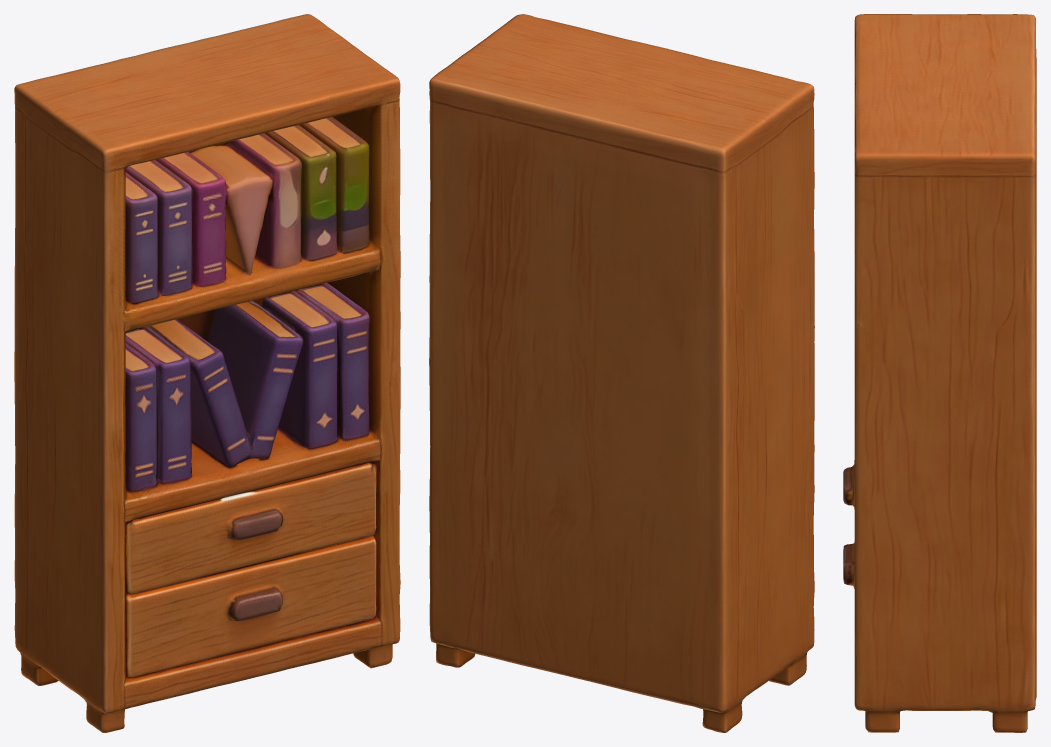
The model's file is bookcase.glb.
The picture shows the model from 3 angles, left to right: view 1: azimuth 30°, elevation 25°; view 2: azimuth 150°, elevation 25°; view 3: azimuth 270°, elevation 25°; orthographic projection.
Parts seen in each view (by area): view 1: model; view 2: model; view 3: model.
Part boxes in pixels (box(x1,y1,x2,y2)): model: box(14, 14, 400, 732); model: box(429, 14, 814, 732); model: box(843, 14, 1036, 732).
Bounding box in the file's own units: 0.9988 × 1.89 × 0.5723.
1 material, 1 textured.
